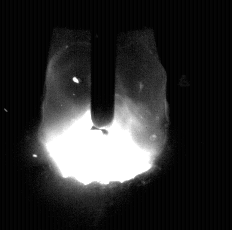arame: (92, 0, 116, 127)
poca: (38, 0, 169, 230)
